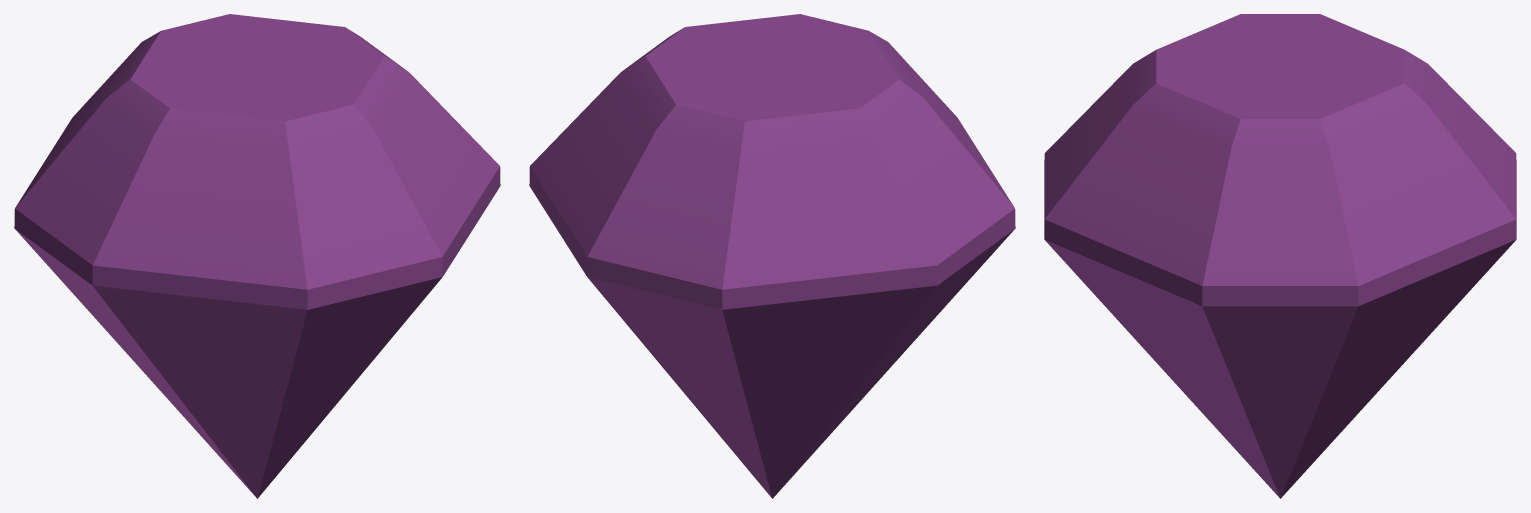
Rendered from Gem_Pink.fbx.
The picture shows the model from 3 angles, left to right: view 1: azimuth 30°, elevation 25°; view 2: azimuth 150°, elevation 25°; view 3: azimuth 270°, elevation 25°; orthographic projection.
Visible parts, largest first — view 1: Gem_Pink; view 2: Gem_Pink; view 3: Gem_Pink.
Part boxes in pixels (left/top/right/bottom): Gem_Pink: left=14, top=14, right=500, bottom=498; Gem_Pink: left=529, top=14, right=1015, bottom=498; Gem_Pink: left=1044, top=14, right=1516, bottom=498.
Size of the model in its own units: 150 by 151 by 150.
